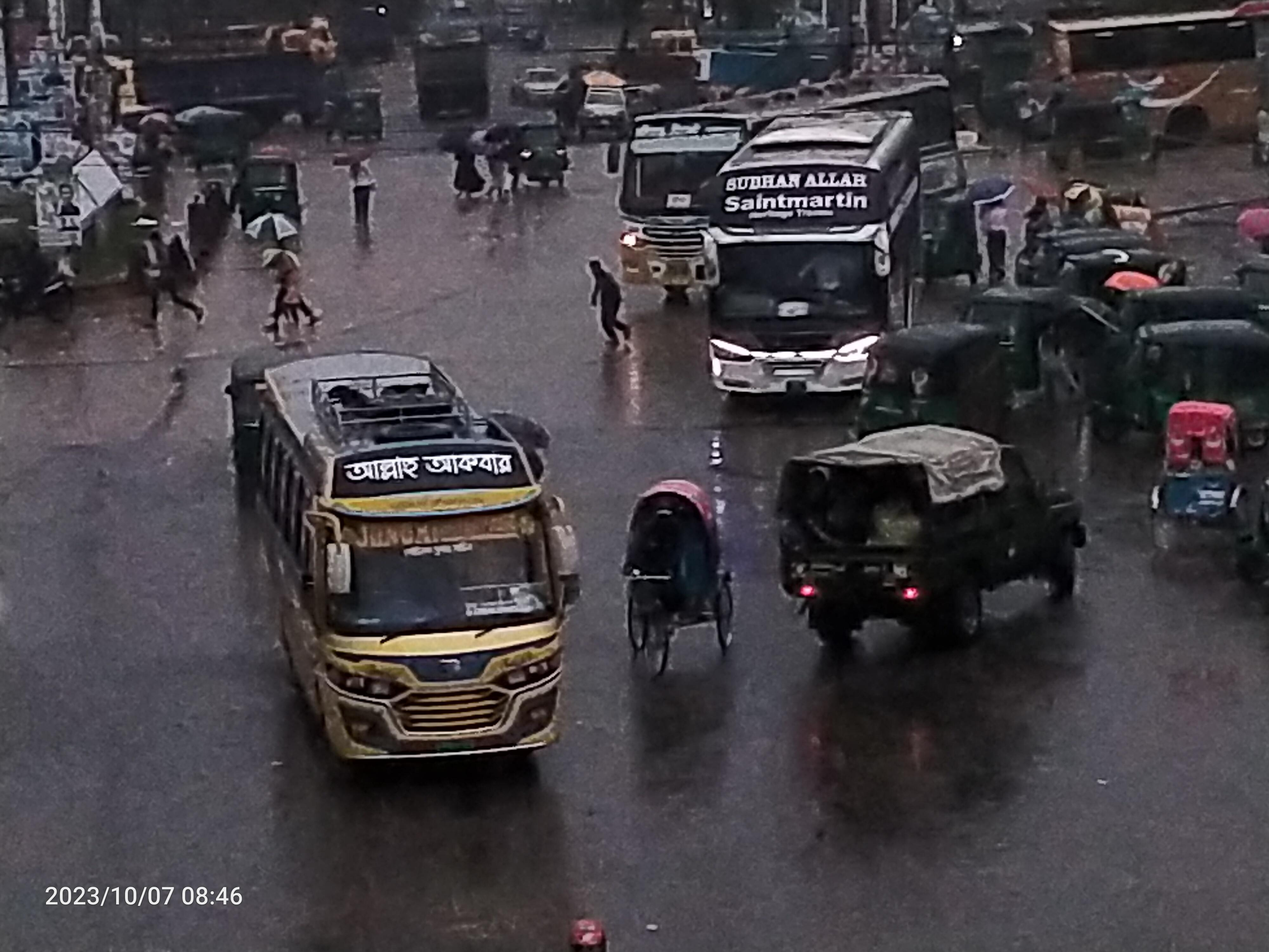Bus: (198, 337, 610, 799), (591, 63, 997, 306), (683, 95, 944, 437), (1024, 0, 1269, 172)
Car: (594, 452, 761, 698), (1132, 376, 1269, 592)
Truck: (752, 417, 1145, 678)
